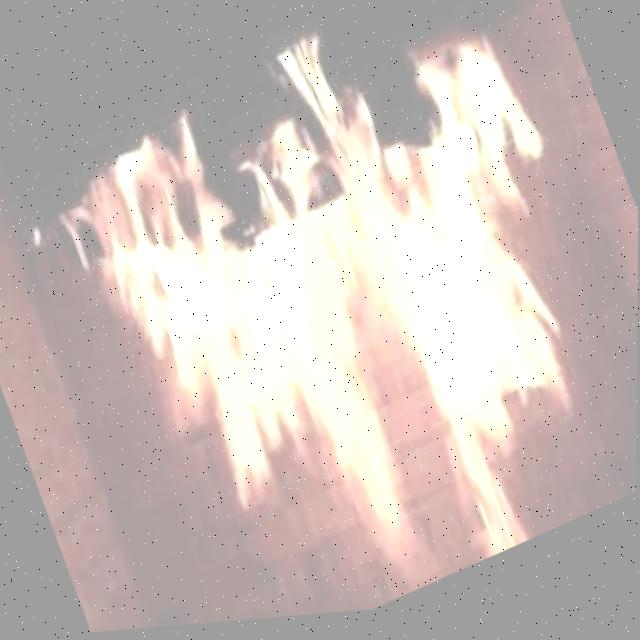Fire: (12, 0, 640, 639)
